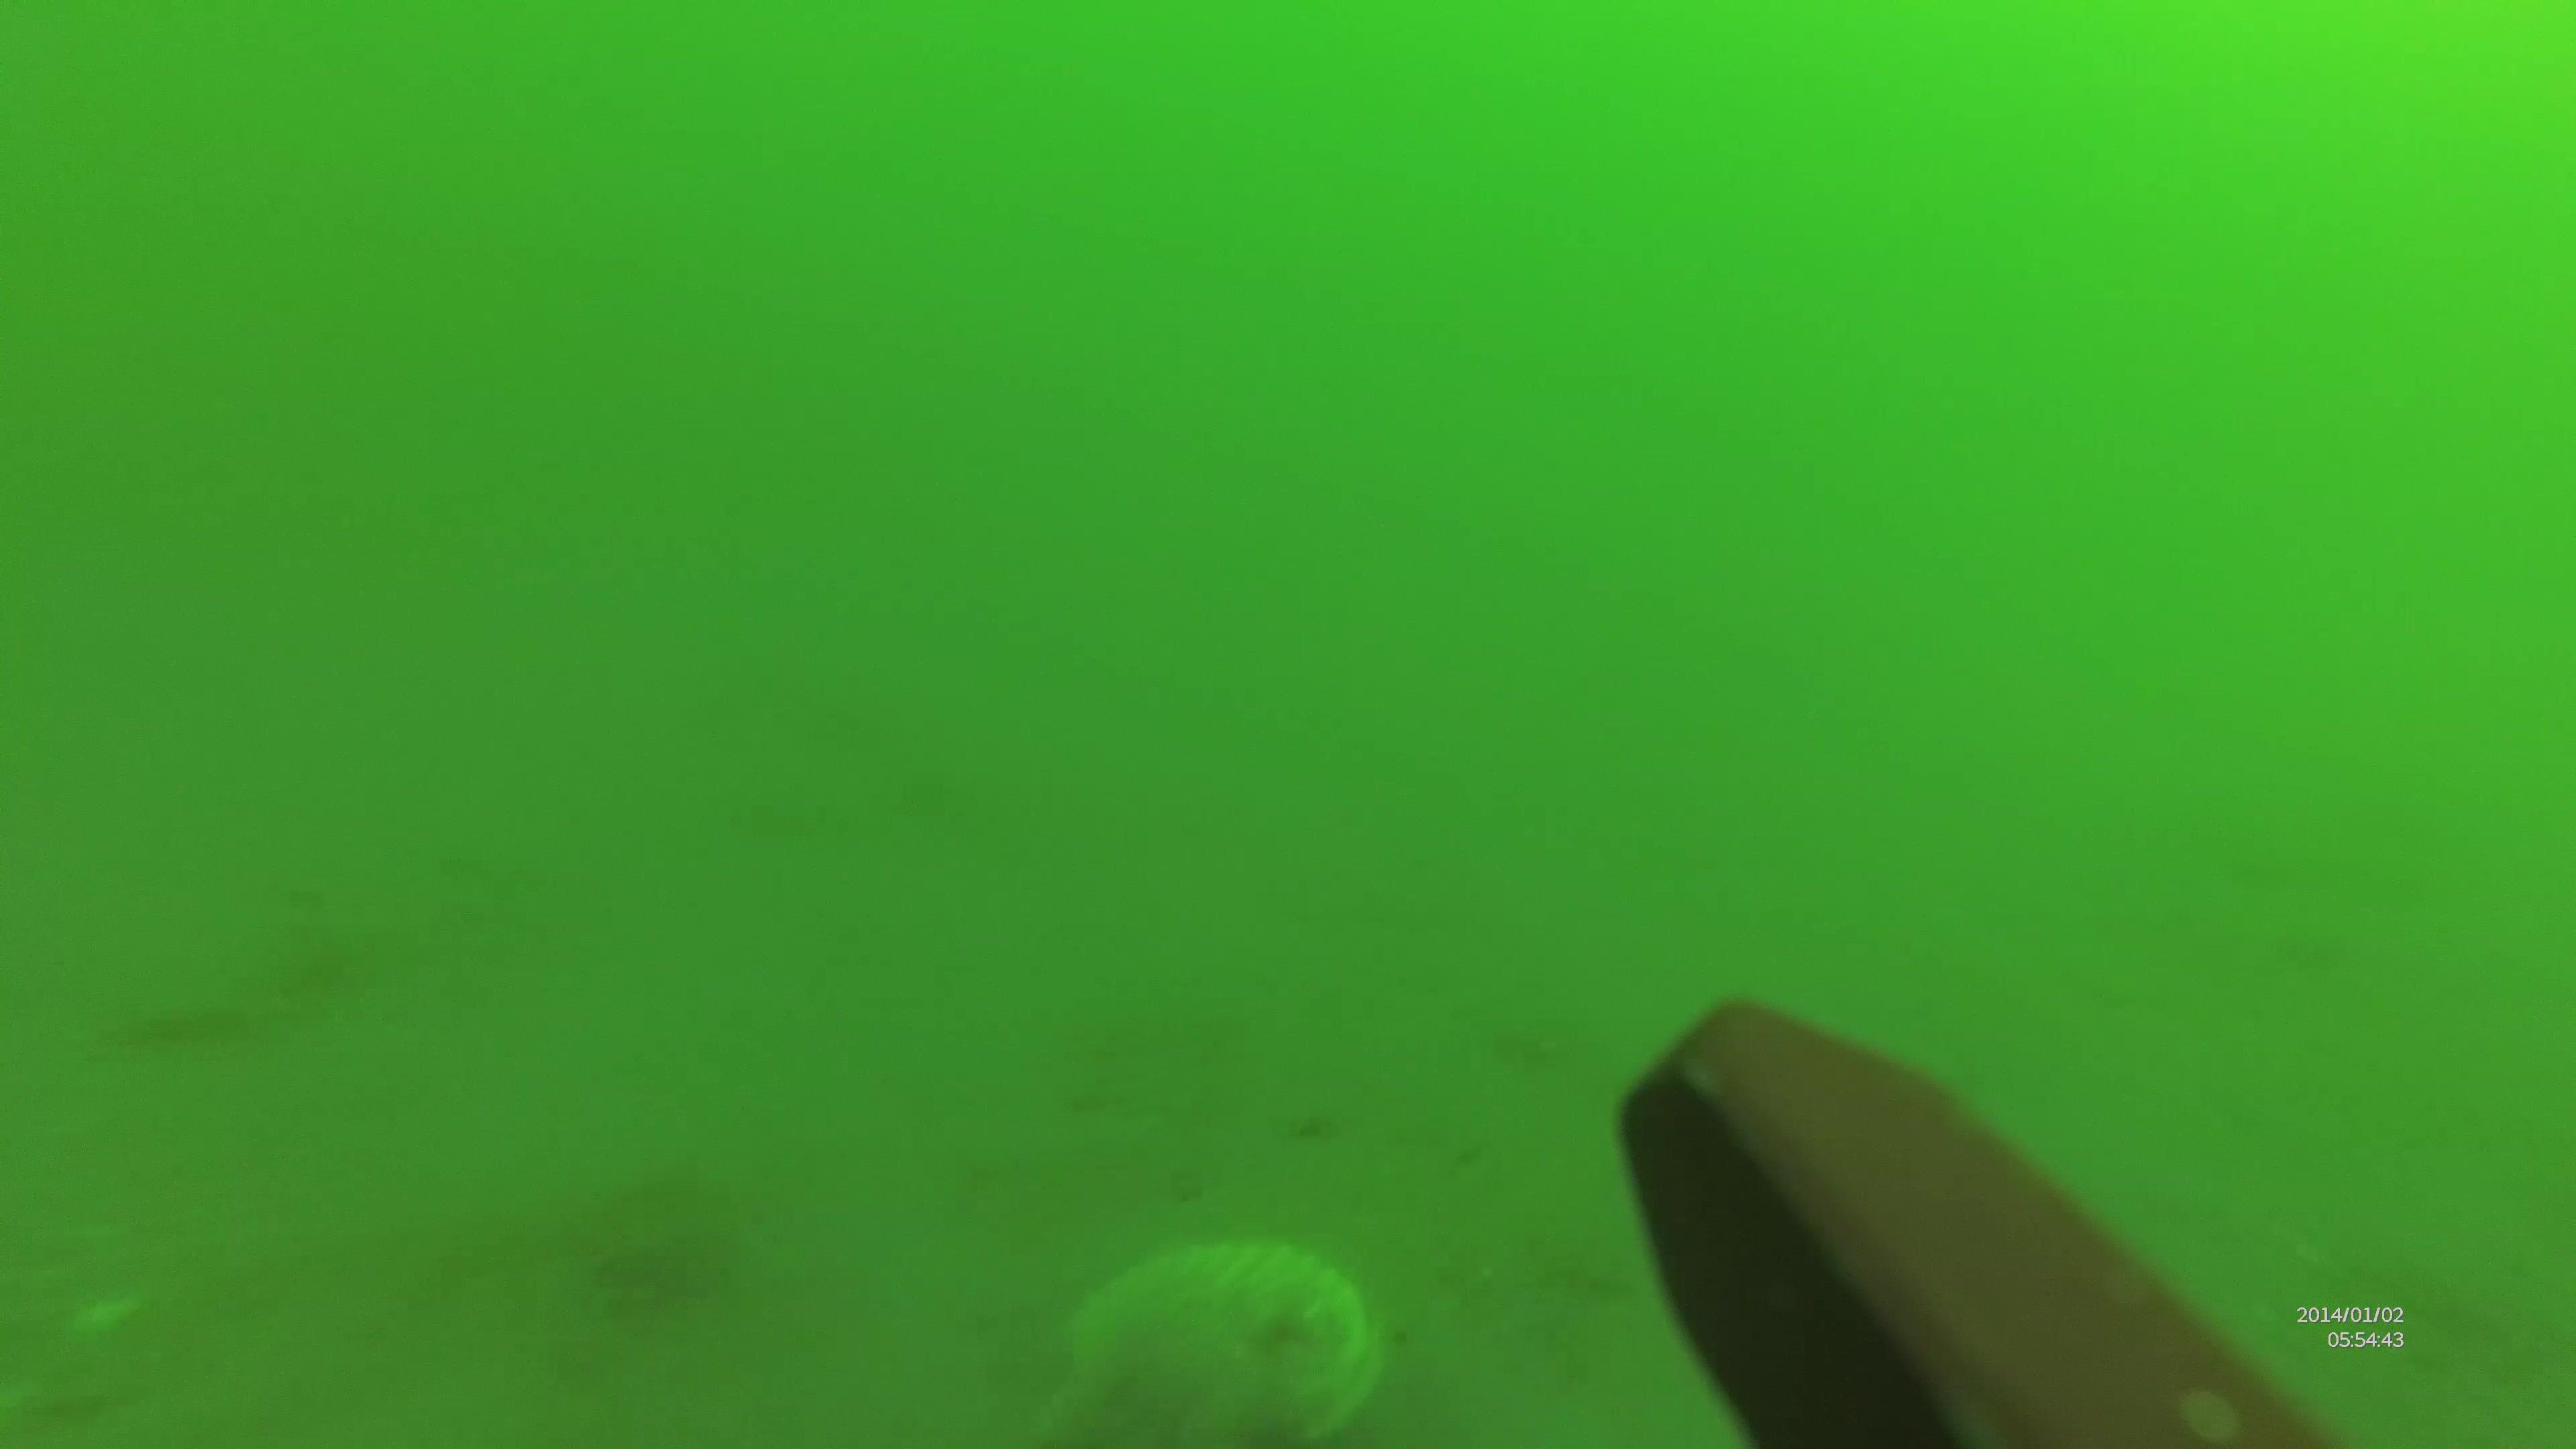scallop: (1044, 1233, 1380, 1437)
